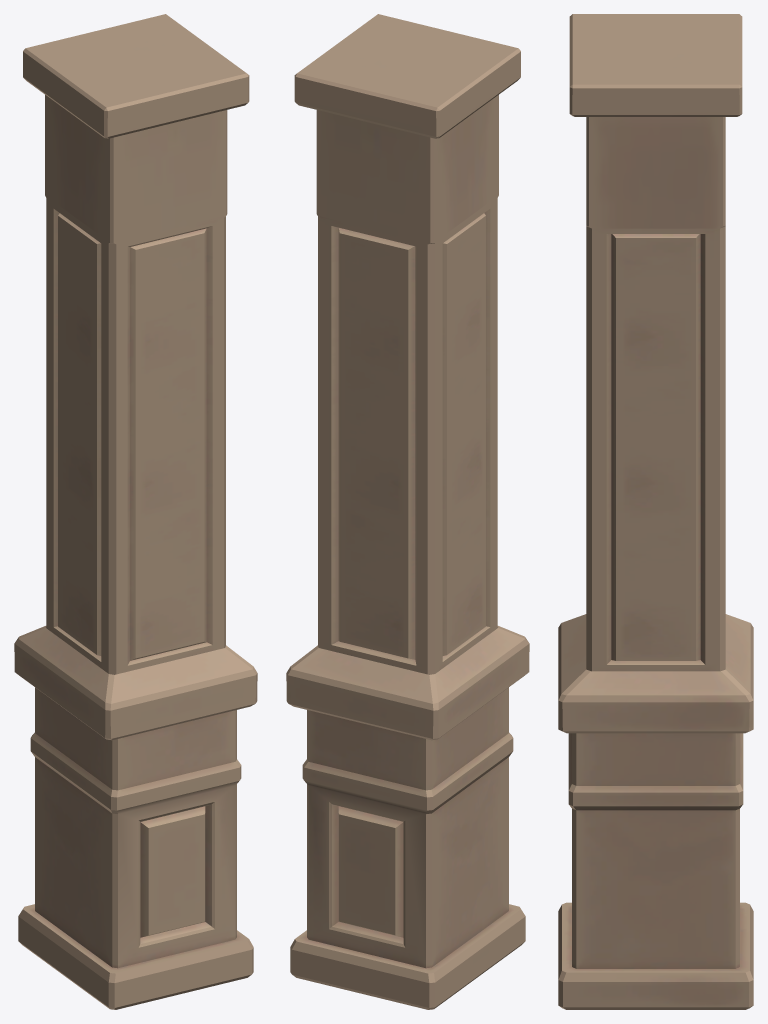
The model's file is column2Base (10).fbx.
3 views of the same model, side by side, from view 1: azimuth 30°, elevation 25°; view 2: azimuth 150°, elevation 25°; view 3: azimuth 270°, elevation 25° (orthographic). The views are drawn at different scales.
Visible parts, largest first — view 1: column2Middle1, column2Base (10), column2Top; view 2: column2Middle1, column2Base (10), column2Top; view 3: column2Base (10), column2Middle1, column2Top.
Boxes of the visible parts, left/top/right/bottom form: column2Middle1: left=46, top=196, right=225, bottom=674; column2Base (10): left=14, top=626, right=257, bottom=1009; column2Top: left=23, top=14, right=249, bottom=244; column2Middle1: left=318, top=196, right=497, bottom=674; column2Base (10): left=286, top=626, right=529, bottom=1009; column2Top: left=294, top=14, right=520, bottom=244; column2Base (10): left=558, top=614, right=753, bottom=1009; column2Middle1: left=586, top=226, right=725, bottom=671; column2Top: left=569, top=14, right=742, bottom=228.
Size of the model in its own units: 197 by 1113 by 213.
Materials: 1 (1 with a texture image).
